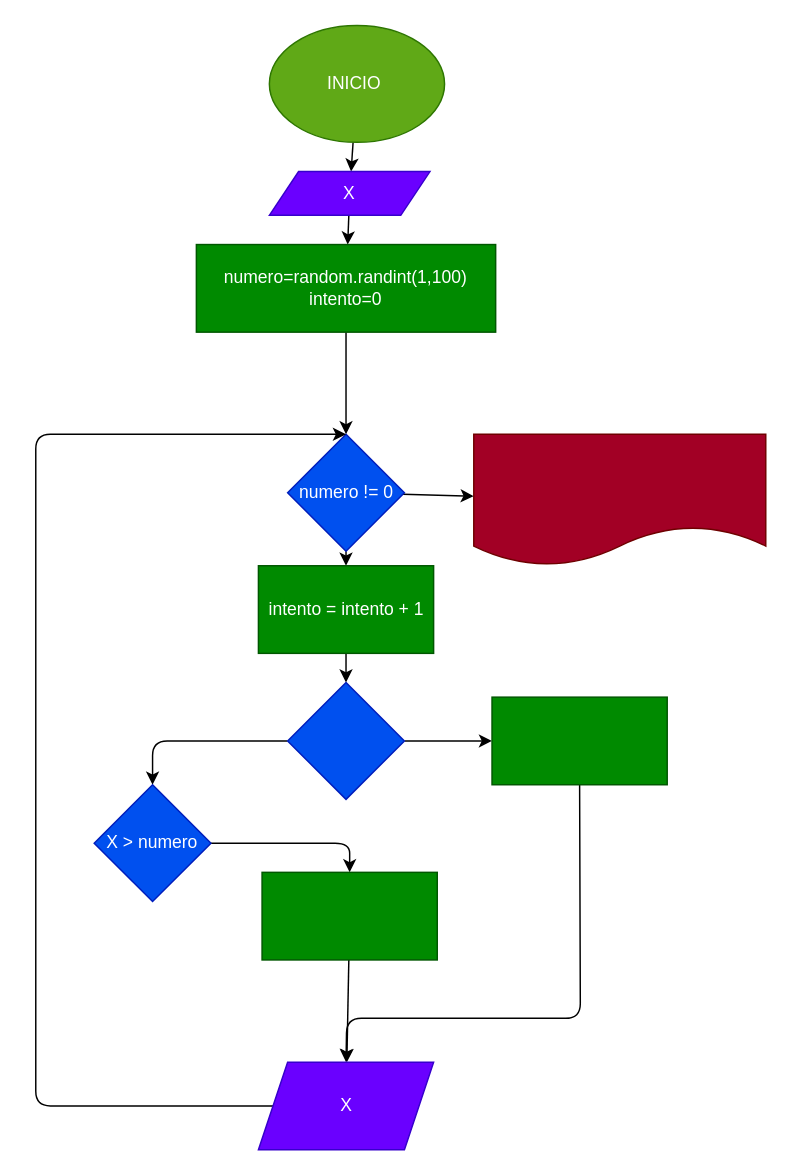
This 791x1175 diagram has some shape labels left out. The shapes that lost their labels are listed below. From the top down, each one's centre as x and y in pixels, then its label:
point 619,499: WOW humano adivinaste el numero en el" ,intento,"intento
point 345,740: X < numero
point 579,740: Casi humano pero el numero es mas grande
point 349,915: Casi humano pero el numero es mas pequeño
